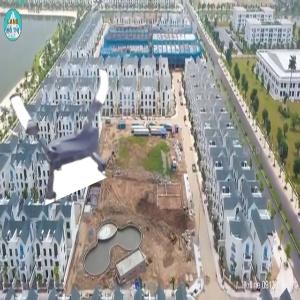drone: (14, 68, 135, 189)
